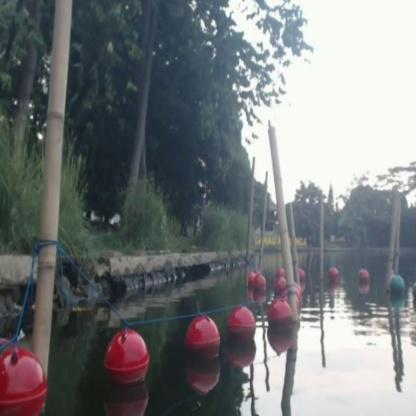green_buoy: (388, 274, 404, 303)
red_buoy: (0, 350, 48, 414), (104, 334, 148, 387), (188, 322, 218, 363), (271, 300, 290, 334), (232, 312, 254, 336), (274, 276, 289, 300), (355, 266, 372, 286), (328, 268, 338, 290), (257, 274, 266, 294), (298, 268, 306, 288), (274, 268, 285, 282), (248, 274, 255, 292)
